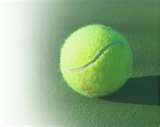tennis ball: (56, 21, 137, 101)
